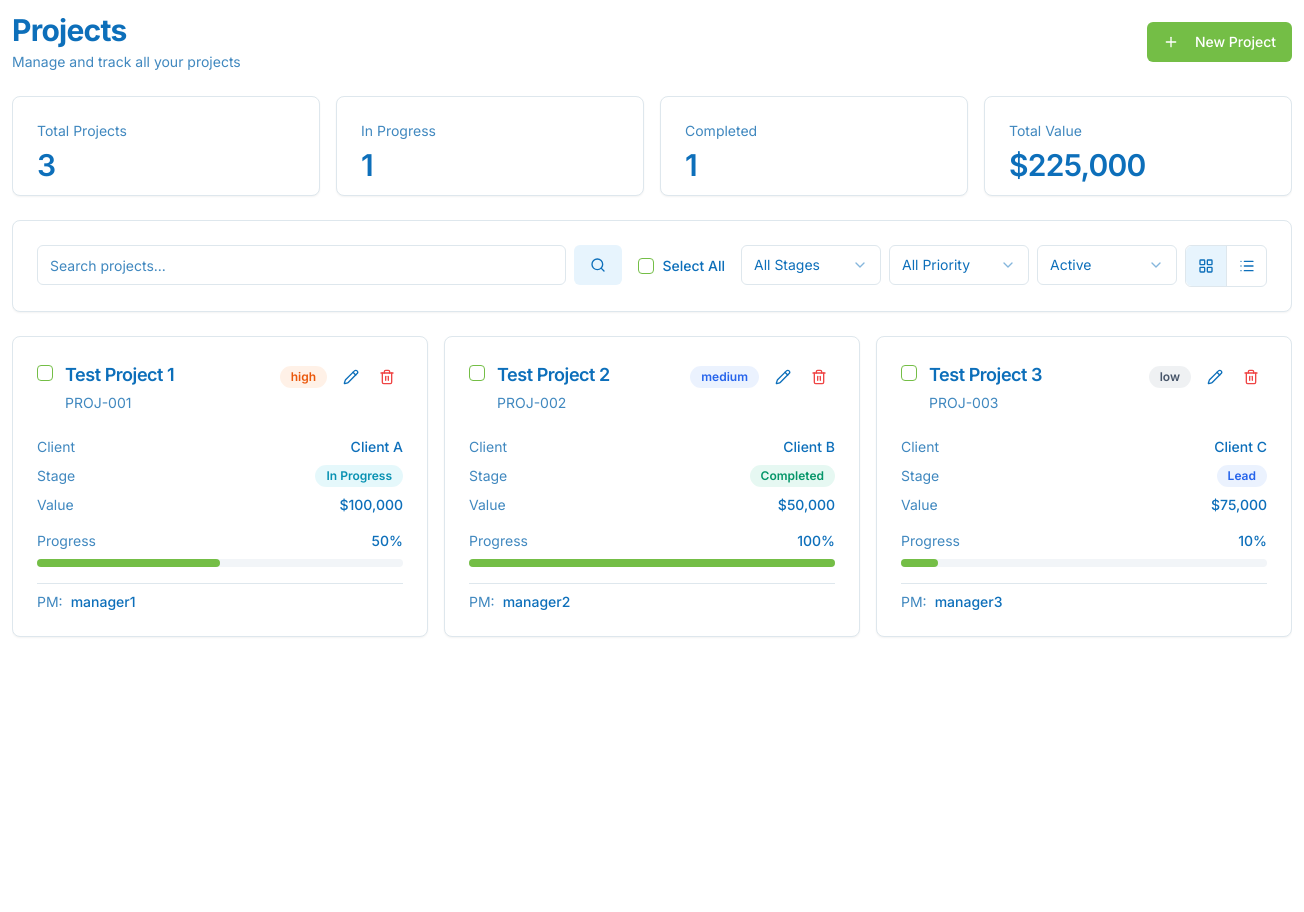
Test: ProjectsPage › Project Selection › selects individual projects
The width and height of the screenshot is (1304, 912).
Expected: the text "Test Project 1" is shown, [65, 364, 174, 385]
Click the checkbox next to "Test Project 1" at [45, 373], box [37, 365, 53, 381]
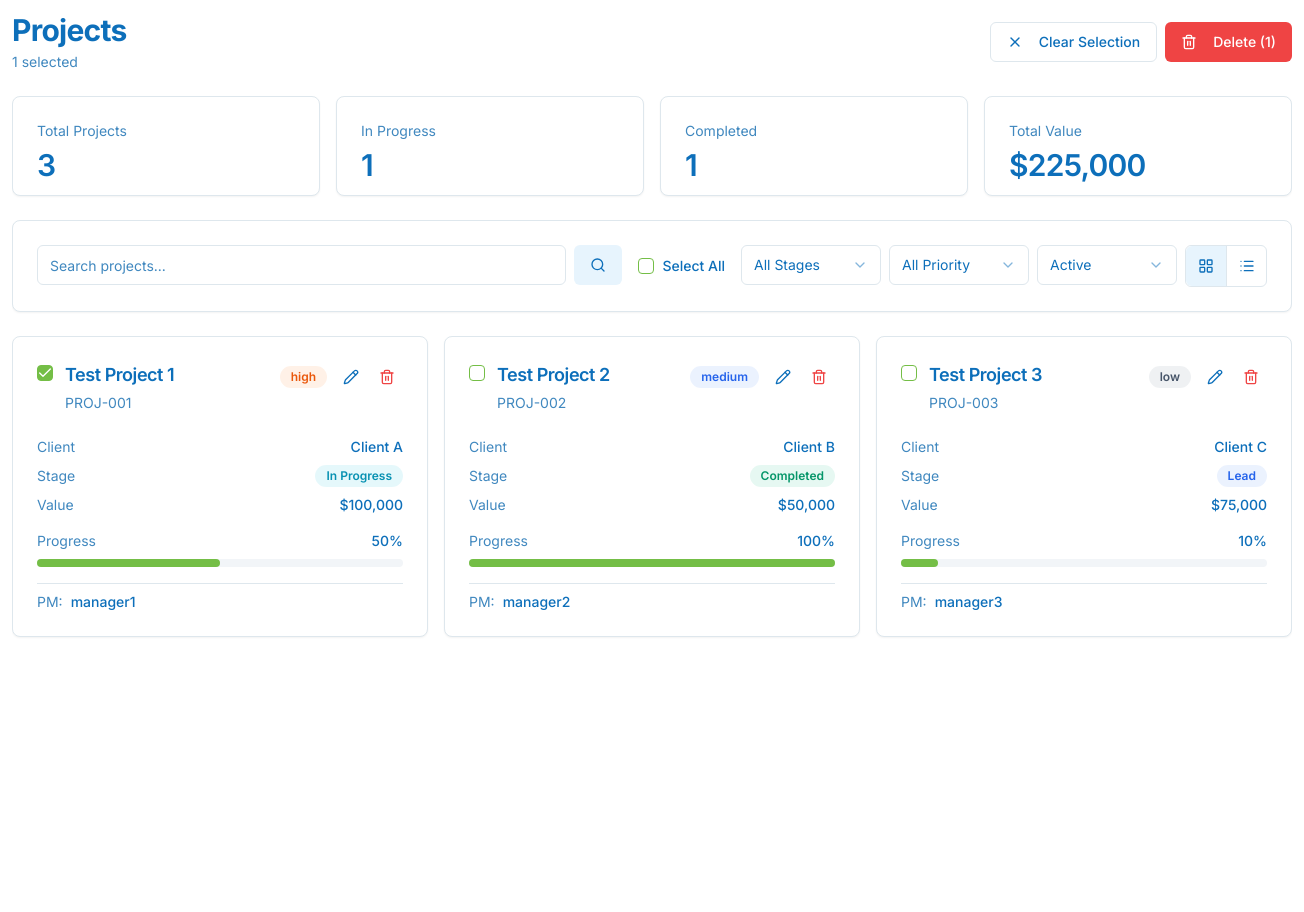
Expected: the text "1 selected" is shown, [12, 53, 78, 70]
